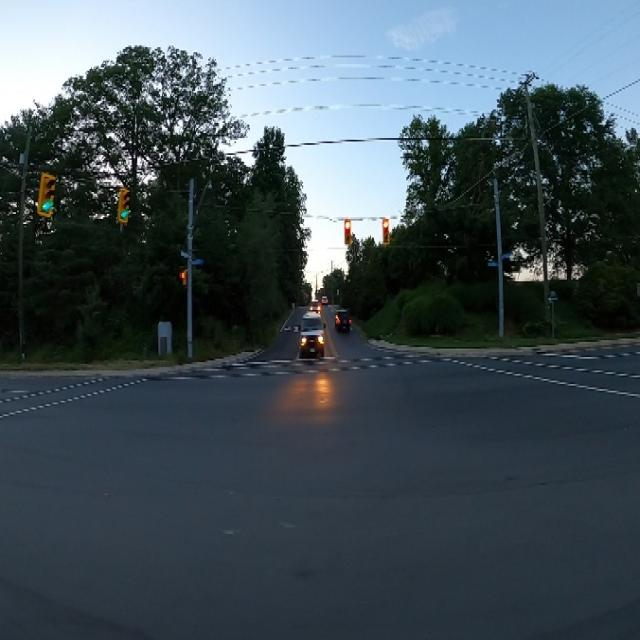cars: (300, 312, 323, 364), (334, 307, 353, 338), (318, 288, 331, 312), (309, 300, 323, 321)
